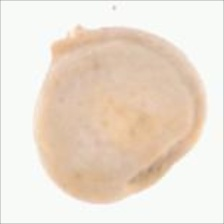L3: (45, 25, 94, 63)
L4: (32, 26, 207, 204)
